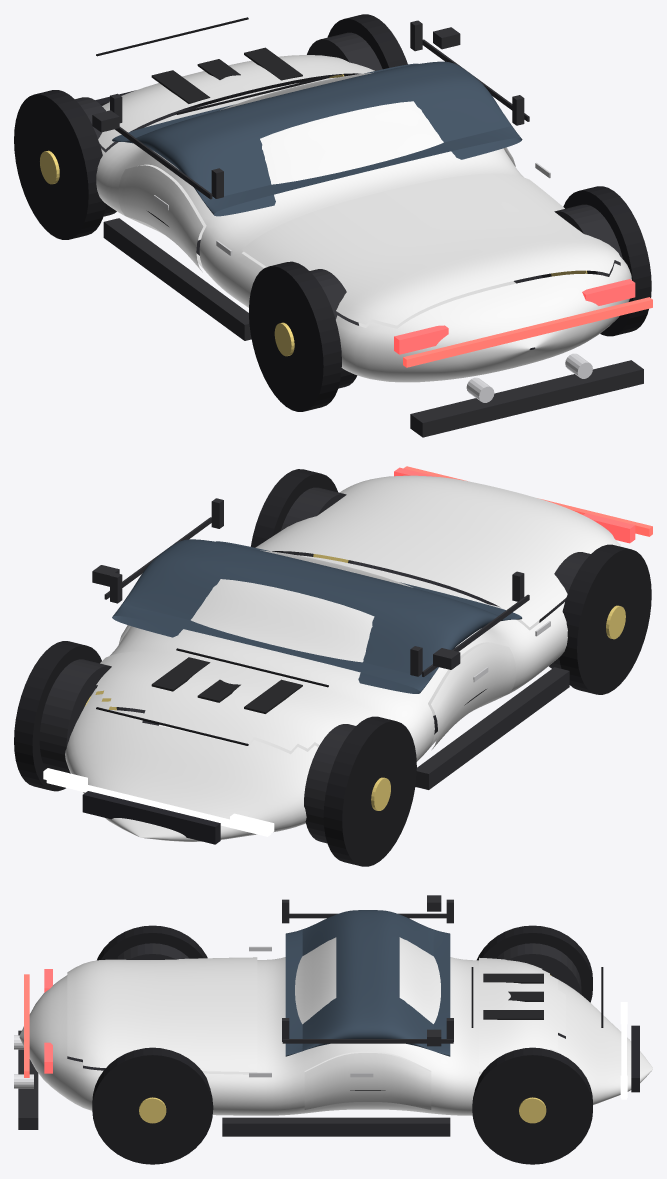
Rendered from car_gen_wedge.glb.
3 renders of one model, top to bottom at view 1: azimuth 30°, elevation 25°; view 2: azimuth 150°, elevation 25°; view 3: azimuth 270°, elevation 25°, orthographic. The views are drawn at different scales.
Visible parts, largest first — view 1: Body, Boot, Window, Arch.003, Arch.001, Diffuser, Bonnet, Skirt, Door.001, Arch, Rear_Light_Bar, Arch.002 (+9 smaller); view 2: Body, Boot, Window, Bonnet, Arch.001, Arch.003, Skirt, Arch.002, Door.001, Tires.001, Grille, Arch (+10 smaller); view 3: Body, Boot, Window, Arch, Arch.002, Bonnet, Door, Skirt.001, Arch.001, Arch.003, Tires, Diffuser (+9 smaller).
Part boxes in pixels (x1,y1,x2,y2): Body: (96, 72, 631, 382); Boot: (242, 173, 620, 325); Window: (112, 61, 522, 216); Arch.003: (249, 261, 341, 411); Arch.001: (14, 90, 105, 239); Diffuser: (410, 360, 643, 437); Bonnet: (98, 55, 374, 149); Skirt: (103, 218, 251, 340); Door.001: (118, 165, 203, 272); Arch: (563, 186, 651, 336); Rear_Light_Bar: (403, 297, 652, 367); Arch.002: (327, 14, 407, 69); Body: (65, 550, 567, 841); Boot: (255, 475, 620, 627); Window: (112, 539, 522, 693); Bonnet: (95, 651, 377, 750); Arch.001: (323, 716, 416, 866); Arch.003: (559, 544, 651, 694); Skirt: (415, 667, 569, 789); Arch.002: (14, 641, 101, 791); Door.001: (431, 643, 516, 749); Tires.001: (39, 659, 126, 773); Grille: (82, 791, 220, 844); Arch: (250, 469, 337, 551); Body: (19, 937, 652, 1115); Boot: (67, 957, 257, 1071); Window: (285, 910, 450, 1056); Arch: (92, 1047, 213, 1164); Arch.002: (472, 1047, 592, 1164); Bonnet: (479, 957, 565, 1071); Door: (304, 1053, 431, 1109); Skirt.001: (222, 1117, 450, 1136); Arch.001: (477, 925, 592, 1002); Arch.003: (97, 925, 207, 960); Tires: (496, 943, 581, 994); Diffuser: (18, 1030, 38, 1129).
Bounding box in the file's own units: 2.33 × 1.1 × 4.44.
